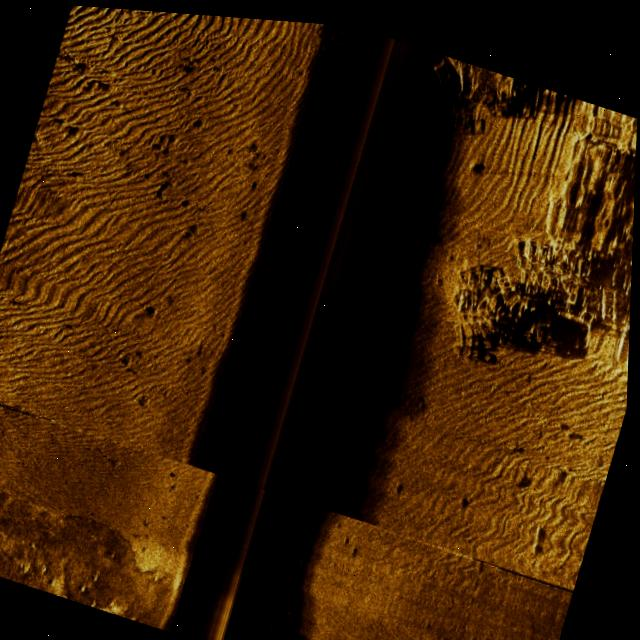artificial reef: (439, 194, 579, 357), (417, 43, 535, 136), (318, 19, 372, 103)
